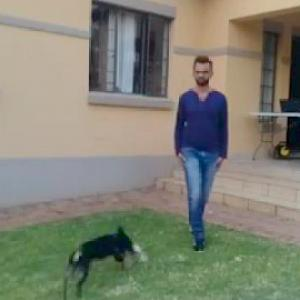follow: (166, 56, 226, 238)
